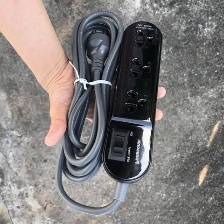three_eye_plug: (98, 18, 165, 187)
